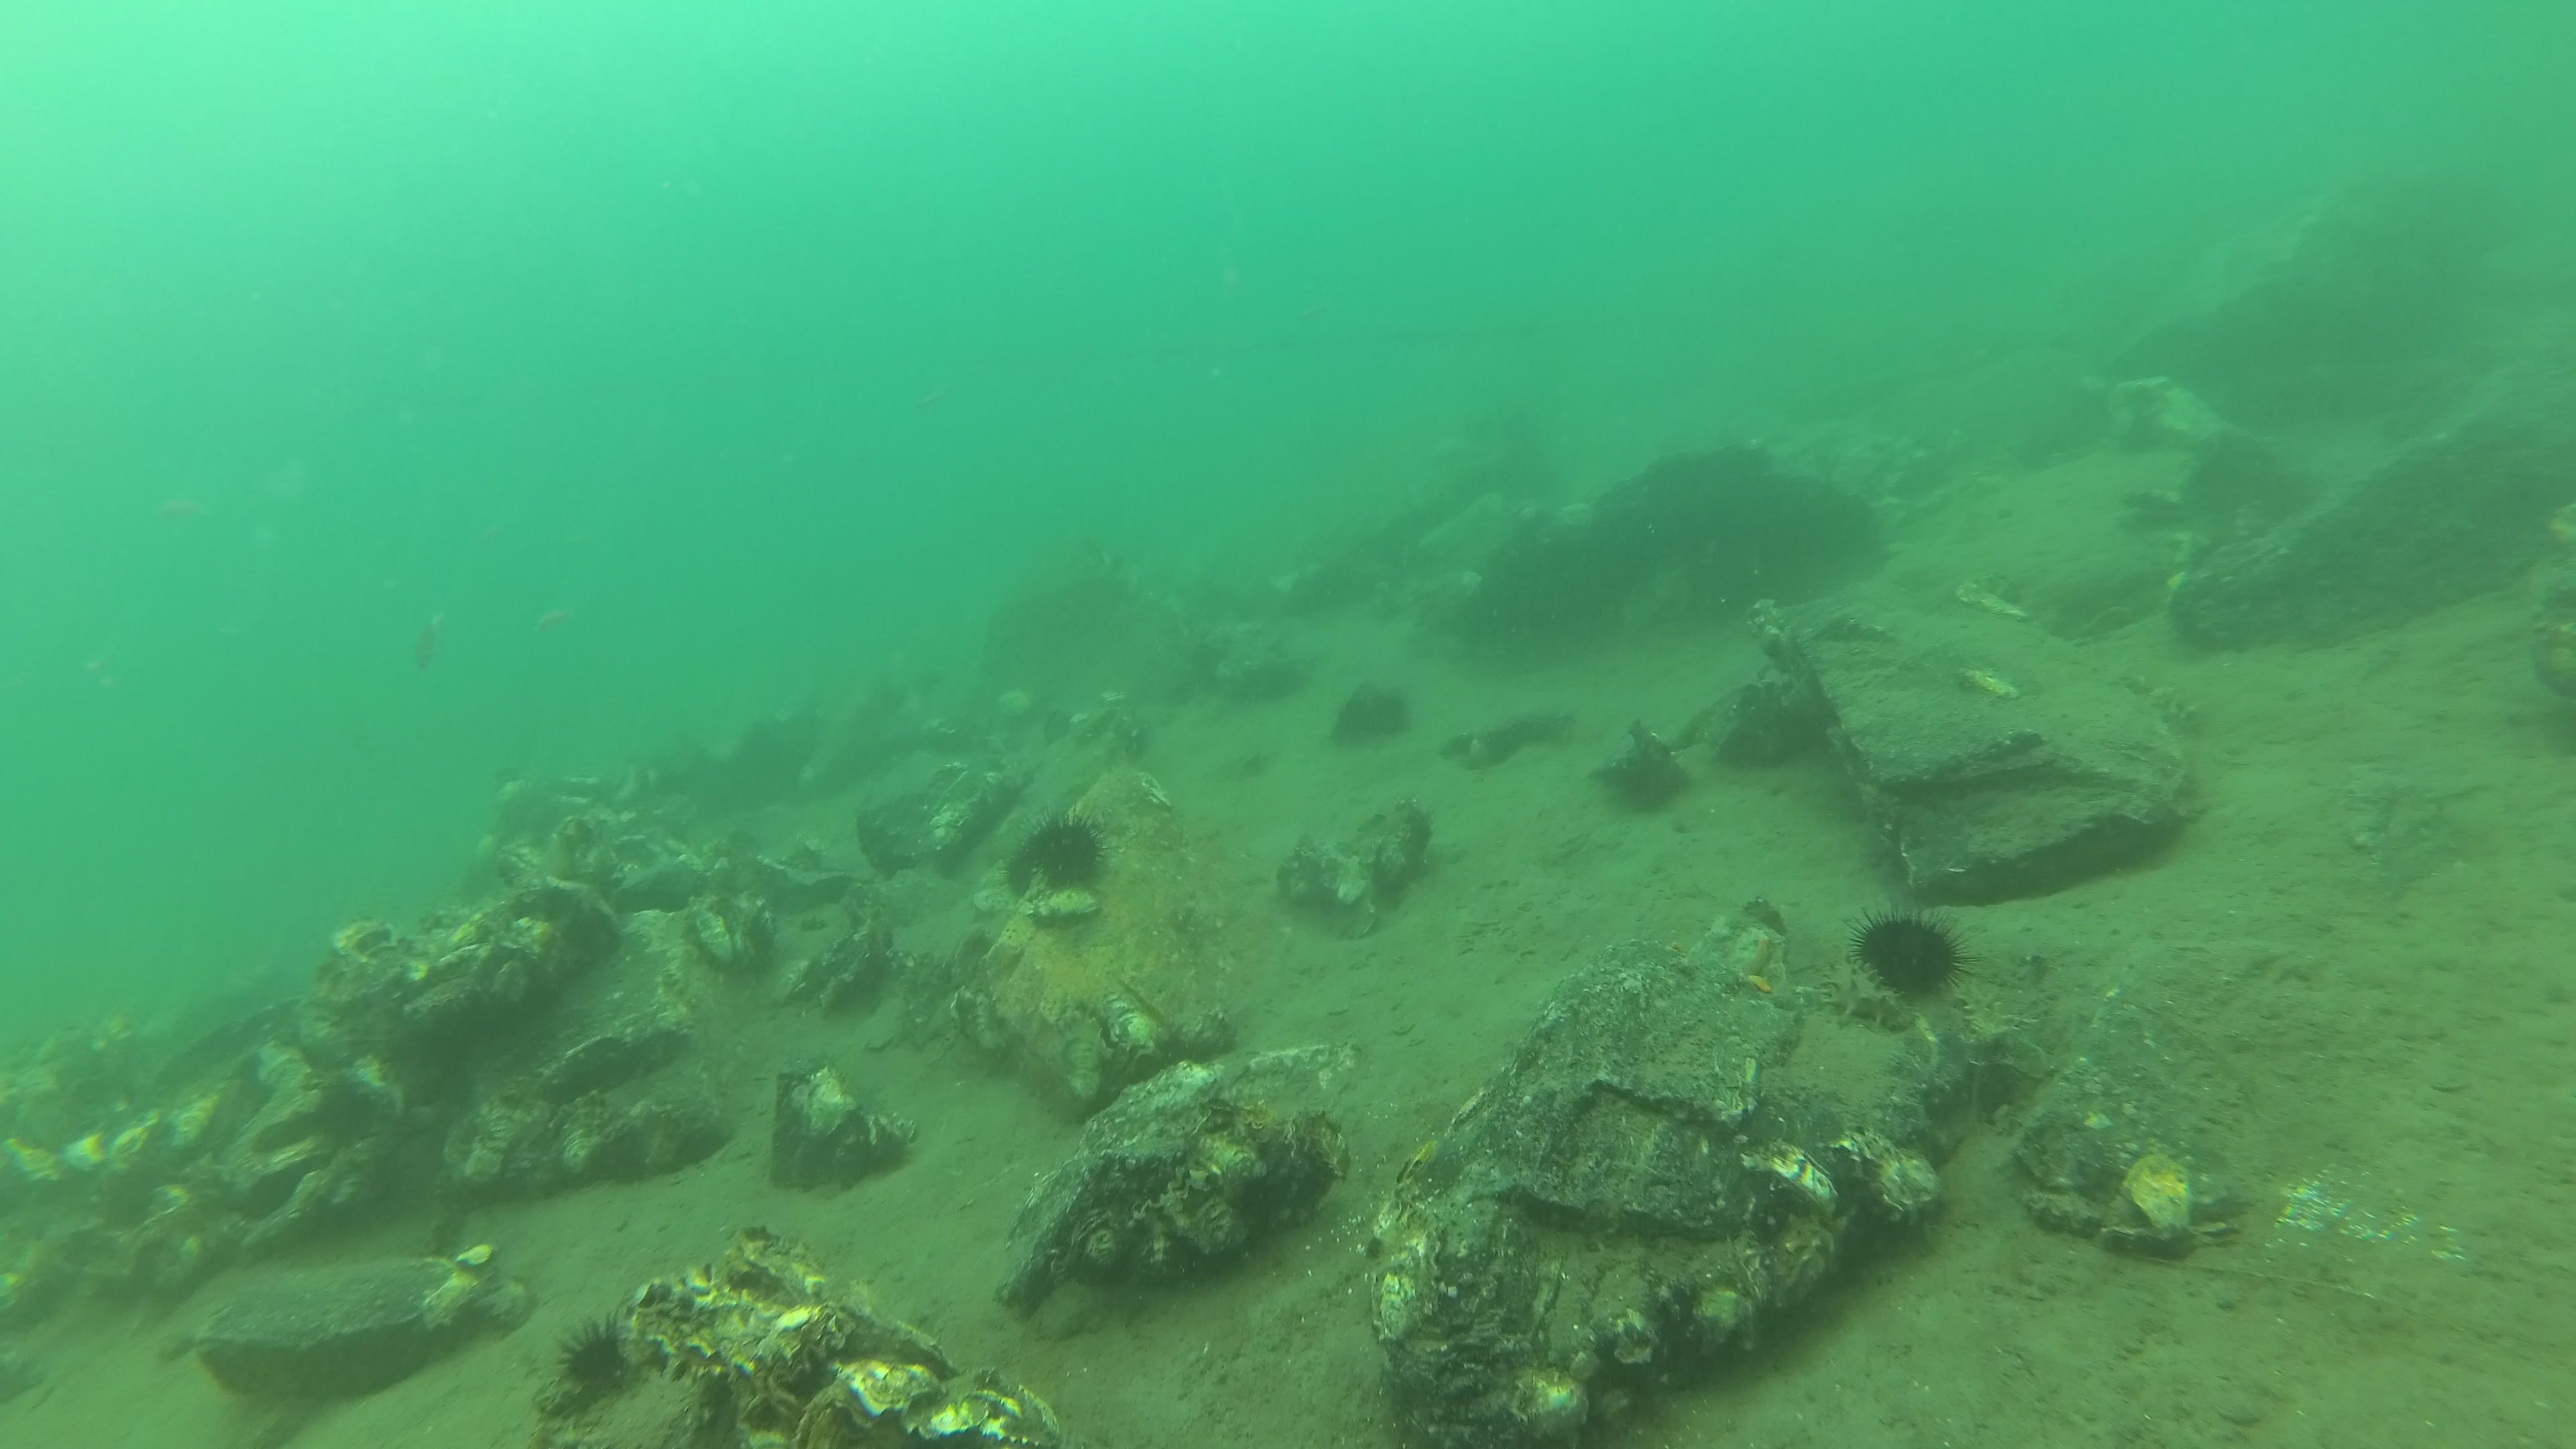echinus: (1845, 899, 1985, 1010), (1005, 823, 1108, 890), (547, 1316, 628, 1396)
